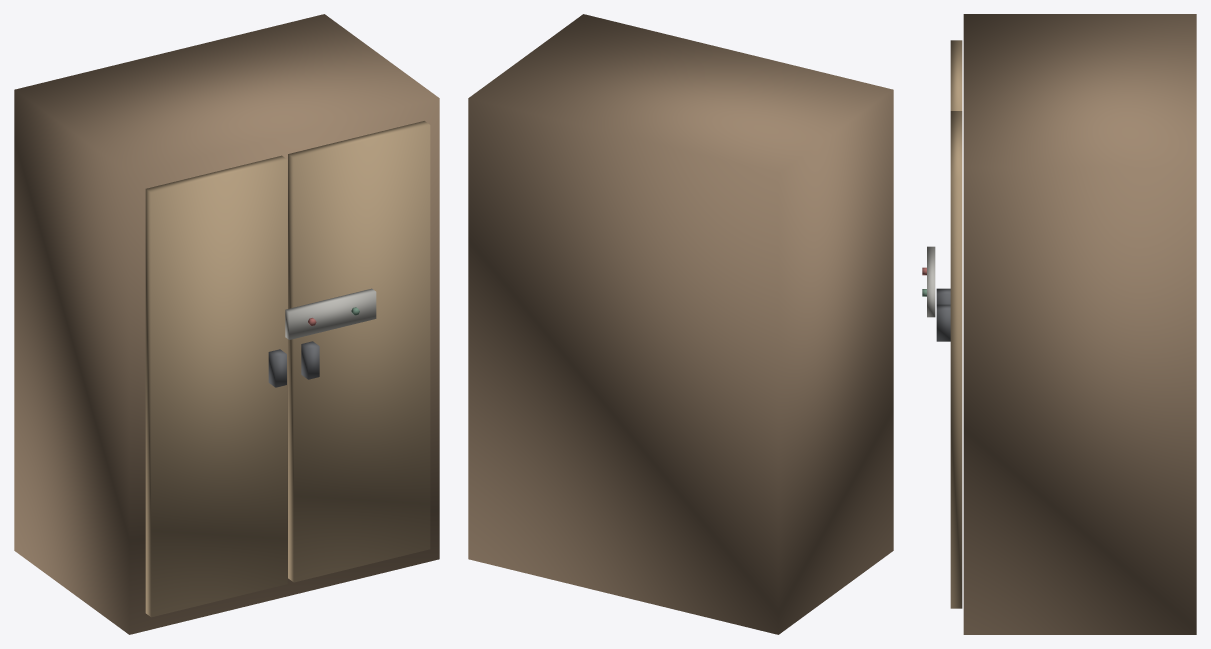
File: cupboard__deep.glb
3 views of the same model, side by side, from view 1: azimuth 30°, elevation 25°; view 2: azimuth 150°, elevation 25°; view 3: azimuth 270°, elevation 25° (orthographic).
Visible parts, largest first — view 1: world; view 2: world; view 3: world.
Part boxes in pixels (box(x1,y1,x2,y2)): world: box(14, 14, 439, 634); world: box(468, 14, 893, 634); world: box(922, 14, 1196, 634).
Size of the model in its own units: 0.95 by 1.35 by 0.718.
